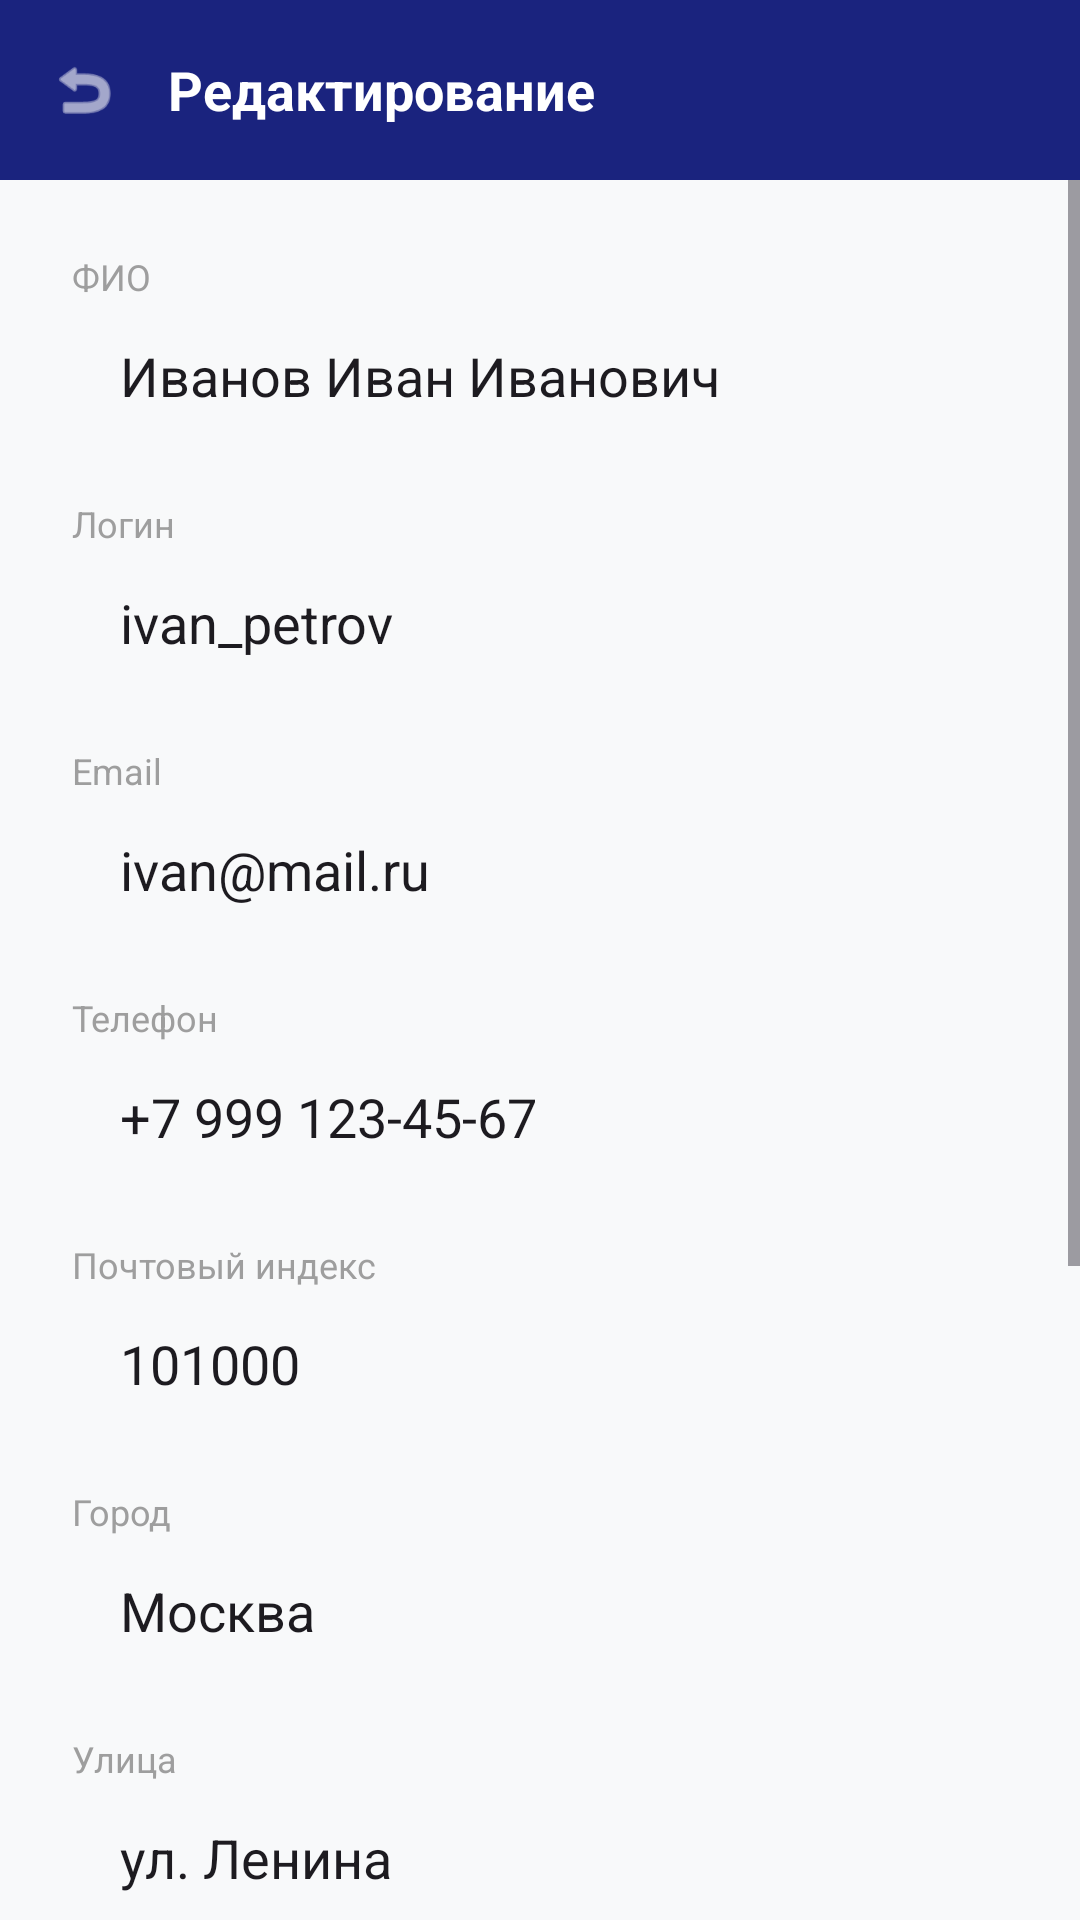

Named icons in this screenshot (1080×1920) and their centers, (x,y):
revert: (85,90)
